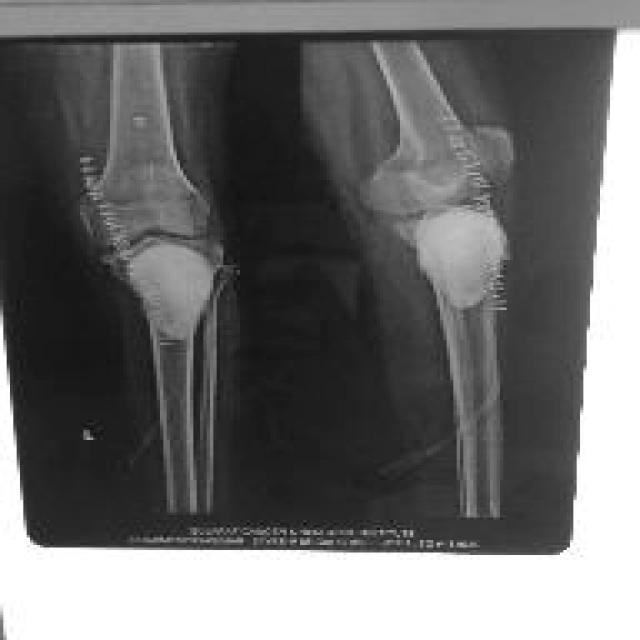bone-cancer: (415, 208, 507, 309), (130, 241, 215, 339)
